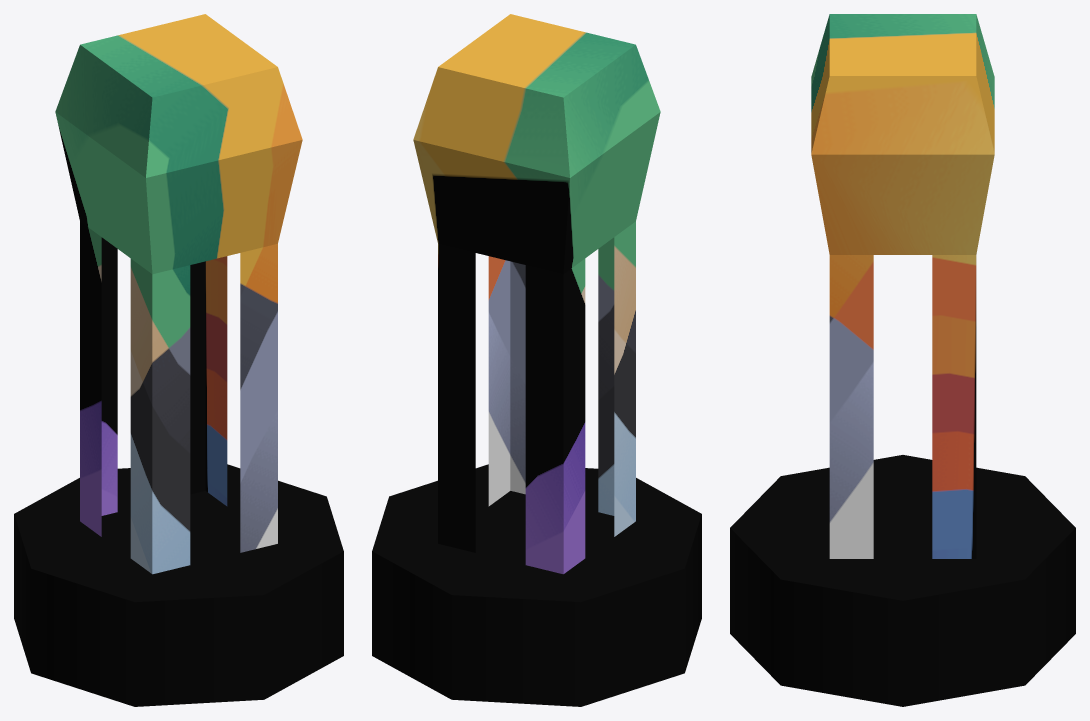
File: SM_Buoy_A.fbx
3 renders of one model, left to right at view 1: azimuth 30°, elevation 25°; view 2: azimuth 150°, elevation 25°; view 3: azimuth 270°, elevation 25°, orthographic.
Parts seen in each view (by area): view 1: SM_Buoy_A; view 2: SM_Buoy_A; view 3: SM_Buoy_A.
Part boxes in pixels (box(x1,y1,x2,y2)): SM_Buoy_A: box(14, 14, 343, 706); SM_Buoy_A: box(372, 14, 701, 706); SM_Buoy_A: box(730, 14, 1075, 706).
Size of the model in its own units: 36.54 by 68.67 by 36.54.
